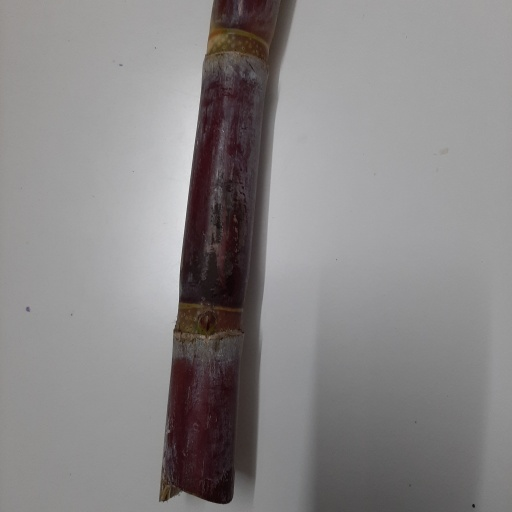Bud: (196, 308, 216, 334)
